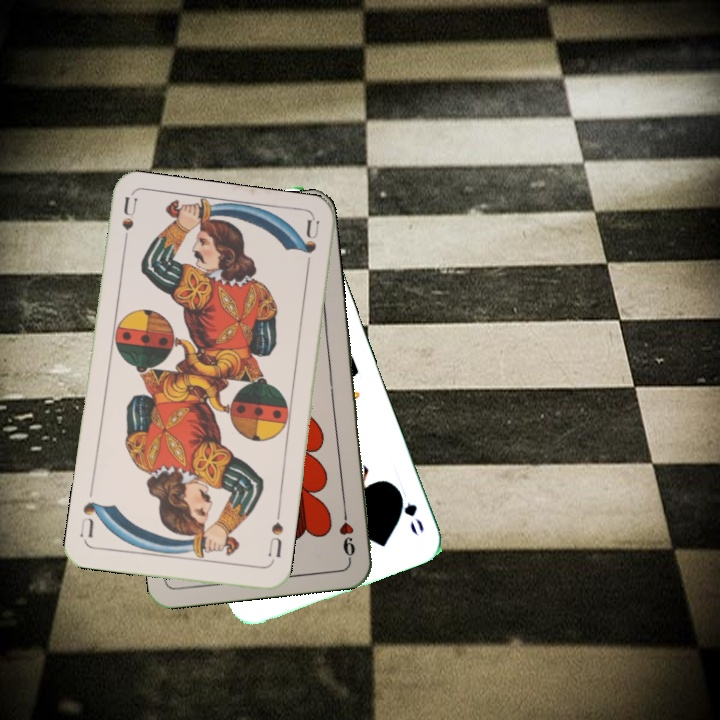GO: (391, 482, 427, 538)
H9: (335, 503, 358, 562)
SU: (263, 508, 286, 567), (118, 195, 140, 254)
